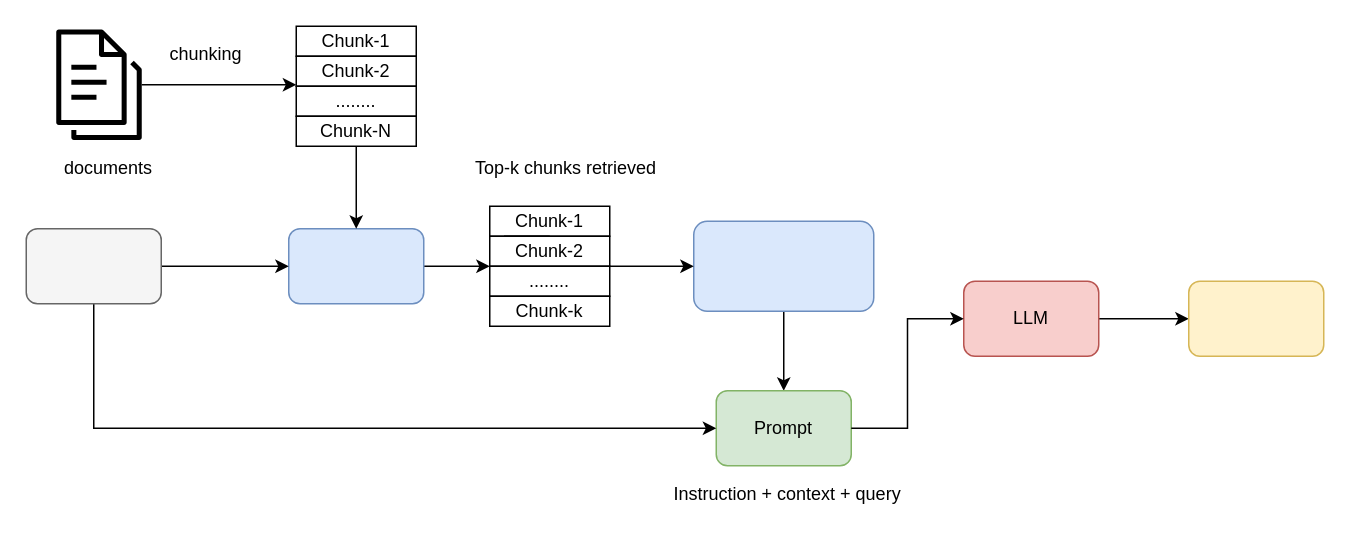
The diagram is 1350 pixels wide and 545 high, and some of its shapes have lost their labels. The centre of each missing label's shape, as x and y in pixels:
query: the point at 93,265
Reranker(Optional): the point at 783,265
Response: the point at 1255,318
Retriever: the point at 355,265
